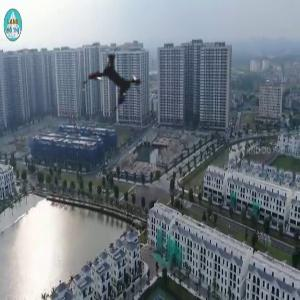drone: (62, 27, 175, 140)
